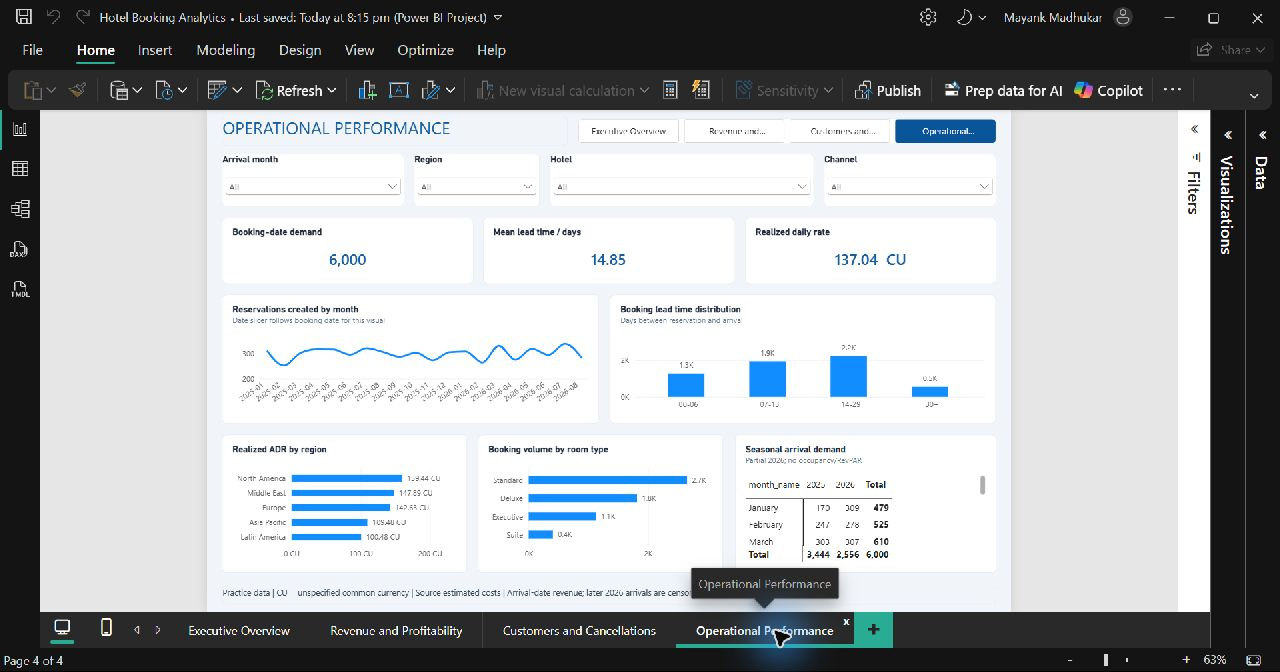

What the dashboard file says about the page in this screenshot:
{"tool":"powerbi","page":{"name":"Operational Performance","canvas":[1280,800],"ordinal":3},"visuals":[{"type":"textbox","title":"Header","box":[24,10,550,48],"z":124},{"type":"slicer","title":"Arrival month","fields":{"Values":["DimDate.year_month"]},"box":[24,70,290,84],"z":724},{"type":"pageNavigator","title":"Page navigation","box":[590,14,666,40],"z":730},{"type":"slicer","title":"Region","fields":{"Values":["DimHotels.region"]},"box":[330,70,200,84],"z":1030},{"type":"slicer","title":"Hotel","fields":{"Values":["DimHotels.hotel_name"]},"box":[546,70,420,84],"z":1246},{"type":"slicer","title":"Channel","fields":{"Values":["DimChannels.channel_name"]},"box":[982,70,274,84],"z":1682},{"type":"card","title":"Booking-date demand","fields":{"Values":["FactBookings.Booking Demand"]},"box":[24,172,400,105],"z":1744},{"type":"card","title":"Mean lead time / days","fields":{"Values":["FactBookings.Average Lead Time"]},"box":[440,172,400,105],"z":2160},{"type":"card","title":"Realized daily rate","fields":{"Values":["FactBookings.Average Daily Rate"]},"box":[856,172,400,105],"z":2576},{"type":"lineChart","title":"Reservations created by month","fields":{"Category":["DimDate.year_month"],"Y":["FactBookings.Booking Demand"]},"box":[24,295,600,205],"z":2974},{"type":"clusteredColumnChart","title":"Booking lead time distribution","fields":{"Category":["FactBookings.lead_time_band"],"Y":["FactBookings.Total Bookings"]},"box":[642,295,614,205],"z":3592},{"type":"clusteredBarChart","title":"Realized ADR by region","fields":{"Category":["DimHotels.region"],"Y":["FactBookings.Average Daily Rate"]},"box":[24,518,390,220],"z":5204},{"type":"clusteredBarChart","title":"Booking volume by room type","fields":{"Category":["FactBookings.room_type"],"Y":["FactBookings.Total Bookings"]},"box":[432,518,390,220],"z":5612},{"type":"pivotTable","title":"Seasonal arrival demand","fields":{"Rows":["DimDate.month_name"],"Columns":["DimDate.year"],"Values":["FactBookings.Total Bookings"]},"box":[840,518,416,220],"z":6020},{"type":"textbox","title":"Source note","box":[24,758,1232,30],"z":7604}]}

Visuals, with their boxes on the page's 1280x800 design canvas (x1, y1, x2, y2). These are canvas units, not pixel positions in the 1280x672 screenshot, which may show the page scaled, cropped or inside an application window:
"Header" textbox: (24,10,574,58)
"Arrival month" slicer: (24,70,314,154)
"Page navigation" pageNavigator: (590,14,1256,54)
"Region" slicer: (330,70,530,154)
"Hotel" slicer: (546,70,966,154)
"Channel" slicer: (982,70,1256,154)
"Booking-date demand" card: (24,172,424,277)
"Mean lead time / days" card: (440,172,840,277)
"Realized daily rate" card: (856,172,1256,277)
"Reservations created by month" lineChart: (24,295,624,500)
"Booking lead time distribution" clusteredColumnChart: (642,295,1256,500)
"Realized ADR by region" clusteredBarChart: (24,518,414,738)
"Booking volume by room type" clusteredBarChart: (432,518,822,738)
"Seasonal arrival demand" pivotTable: (840,518,1256,738)
"Source note" textbox: (24,758,1256,788)
